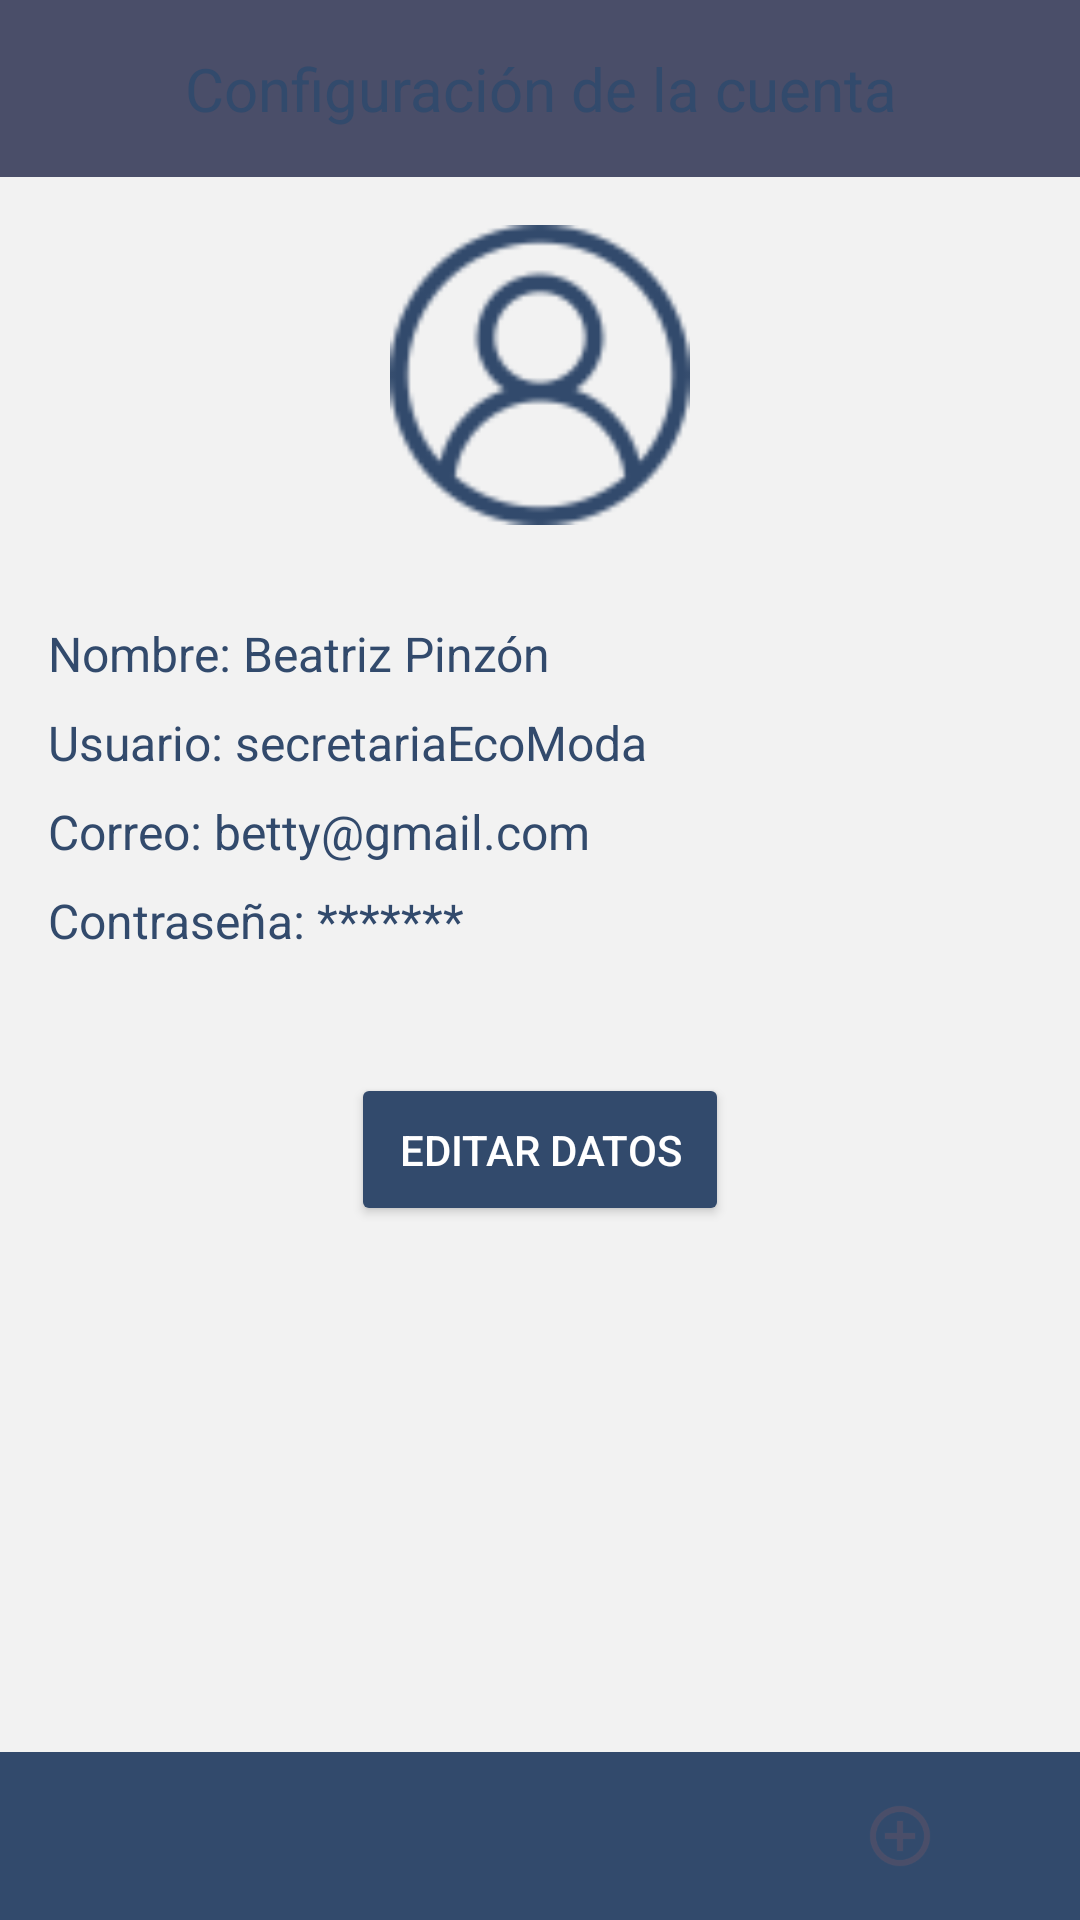

Screen size 1080px×1920px. Icon name, then its center in pixels as [x,y]:
user: [540,375]
